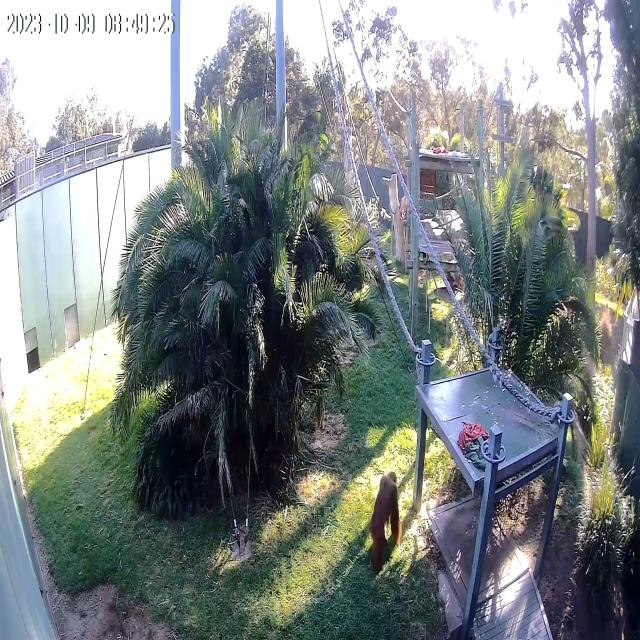orangutan: (370, 469, 402, 569)
